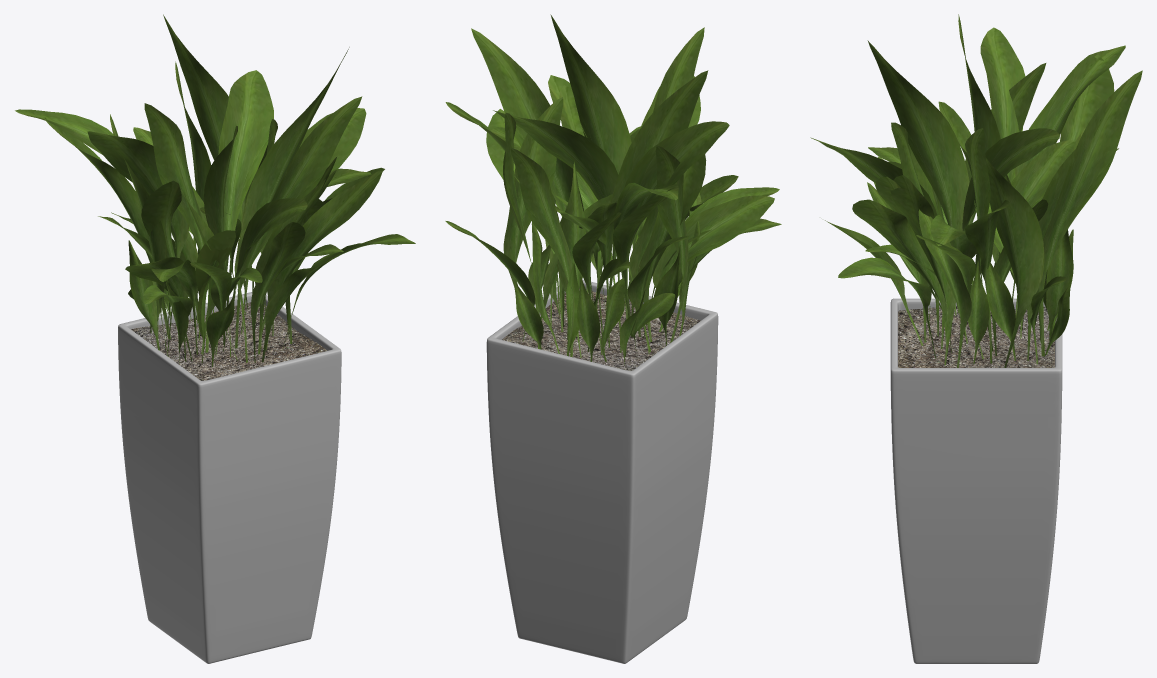
File: plant_tree_s2_snowism.glb
3 renders of one model, left to right at view 1: azimuth 30°, elevation 25°; view 2: azimuth 150°, elevation 25°; view 3: azimuth 270°, elevation 25°, orthographic. The views are drawn at different scales.
Parts seen in each view (by area): view 1: Mesh1_M_06___Defaultdsa_0, Mesh3_grt_0, Mesh2_TEXTURE1_0; view 2: Mesh1_M_06___Defaultdsa_0, Mesh3_grt_0, Mesh2_TEXTURE1_0; view 3: Mesh3_grt_0, Mesh1_M_06___Defaultdsa_0, Mesh2_TEXTURE1_0.
Part boxes in pixels (x1,y1,x2,y2): Mesh1_M_06___Defaultdsa_0: (118, 292, 341, 663); Mesh3_grt_0: (15, 14, 415, 367); Mesh2_TEXTURE1_0: (131, 302, 326, 380); Mesh1_M_06___Defaultdsa_0: (486, 279, 718, 663); Mesh3_grt_0: (445, 14, 781, 365); Mesh2_TEXTURE1_0: (502, 288, 700, 370); Mesh3_grt_0: (810, 14, 1142, 367); Mesh1_M_06___Defaultdsa_0: (890, 298, 1062, 663); Mesh2_TEXTURE1_0: (898, 306, 1054, 367).
Bounding box in the file's own units: 6.72 × 12.46 × 6.51.
3 materials, 2 textured.
